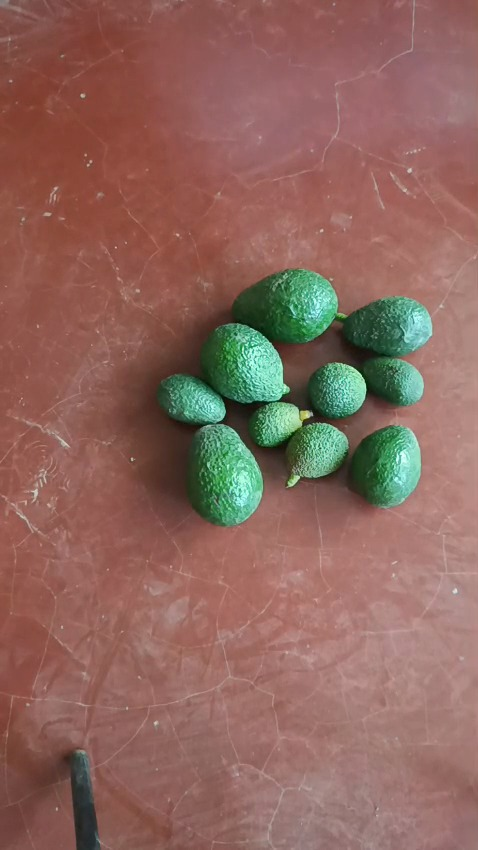Primera: (231, 268, 340, 344), (184, 423, 263, 524), (199, 323, 284, 403)
Segunda: (348, 424, 422, 506), (341, 296, 433, 357)
Tercera: (157, 374, 227, 426), (283, 422, 349, 477), (307, 362, 369, 419), (359, 356, 423, 407), (248, 400, 305, 448)
